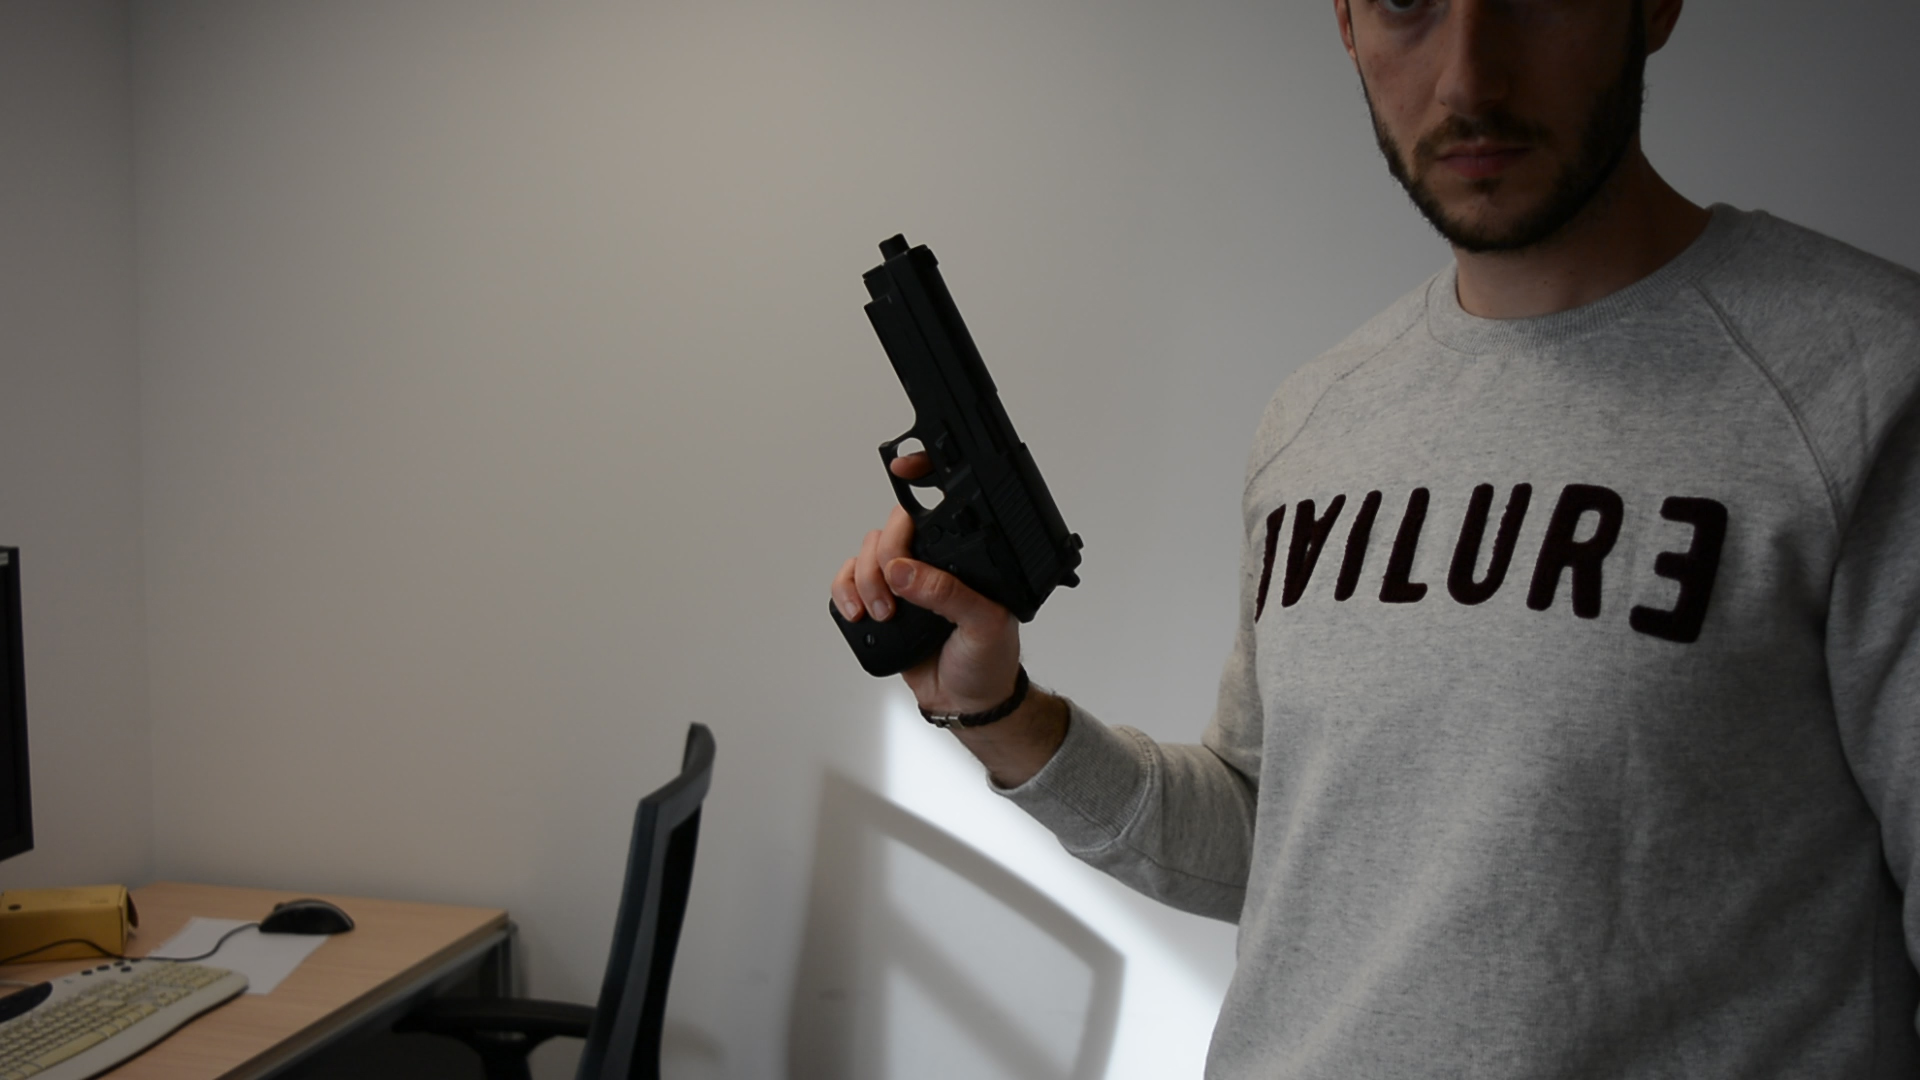pistol: (827, 229, 1088, 680)
